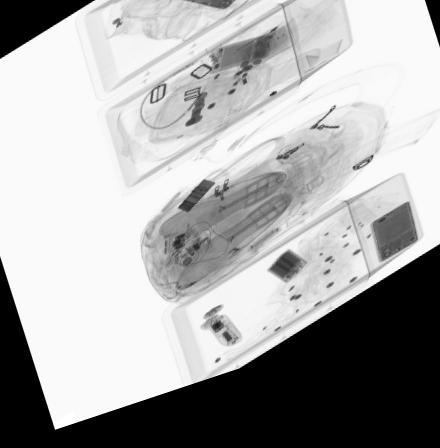Powerbank: (263, 266, 309, 303)
